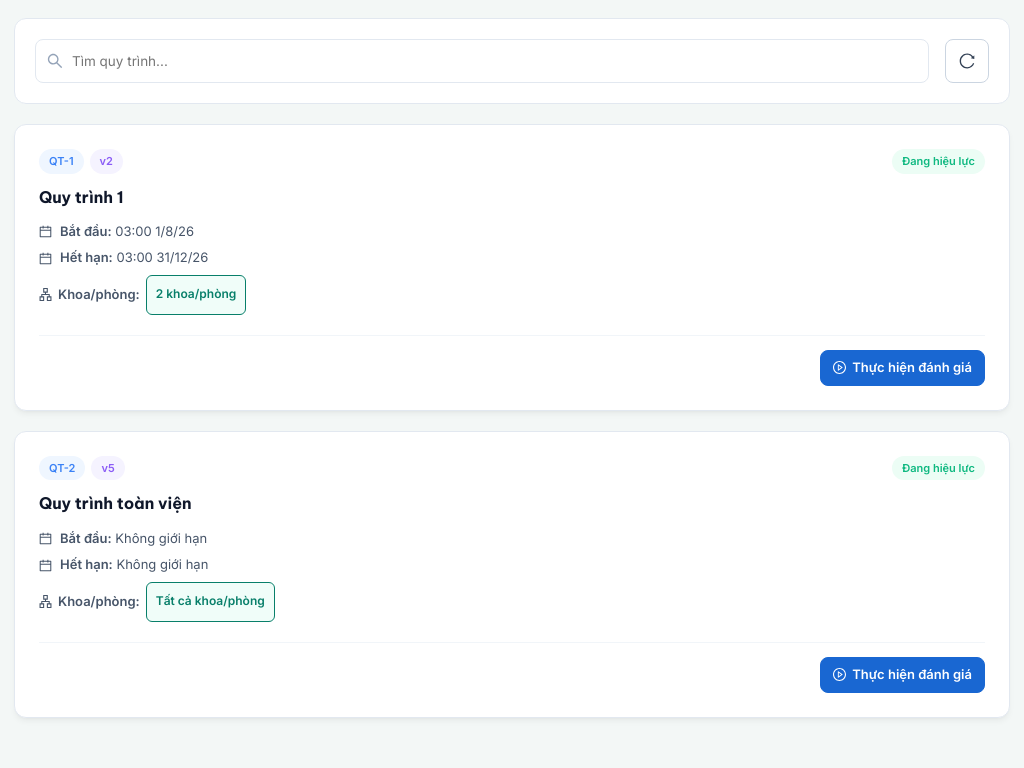
it: ManagerChecklistListPage - phạm vi khoa/phòng › hiện thông báo áp dụng toàn viện
Expected: the heading "Quy trình 1" is shown, [39, 186, 124, 206]
Click the button "Tất cả khoa/phòng" at (210, 602), box [146, 582, 275, 622]
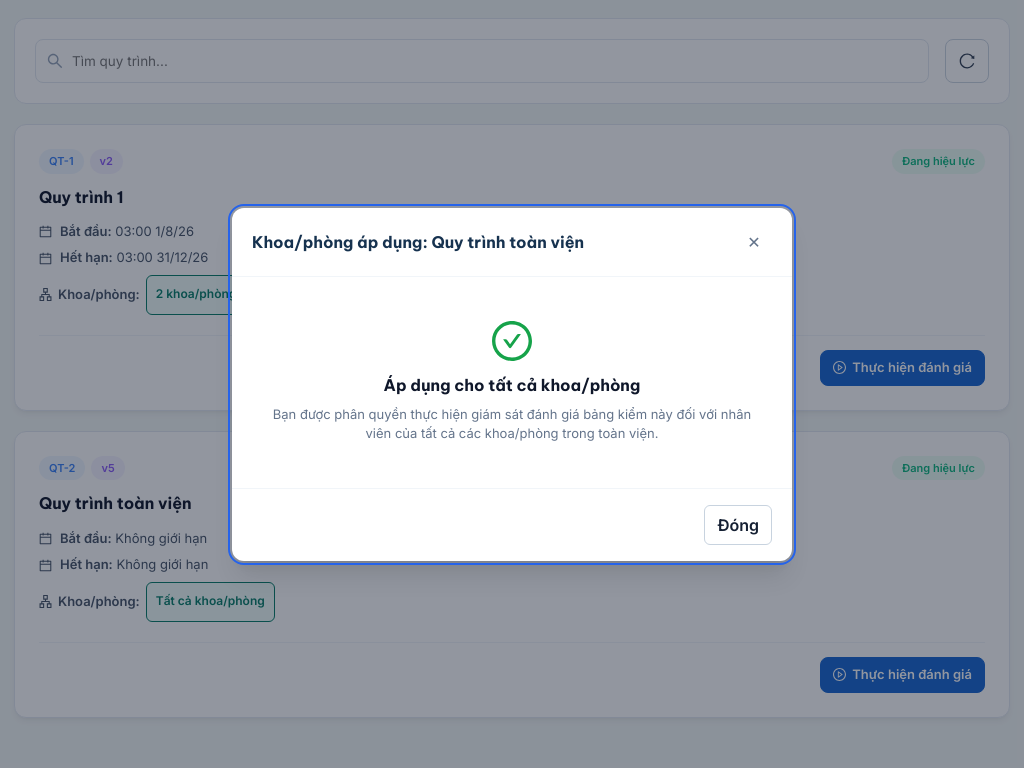
Now the heading "Áp dụng cho tất cả khoa/phòng" is shown, box [384, 374, 640, 394]
